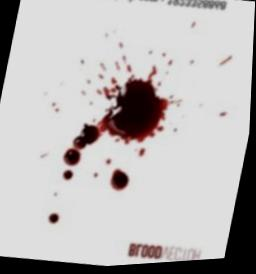Fire: (97, 69, 169, 147), (73, 126, 100, 152), (111, 171, 130, 193), (63, 150, 81, 168), (49, 214, 59, 225), (63, 171, 74, 181)
